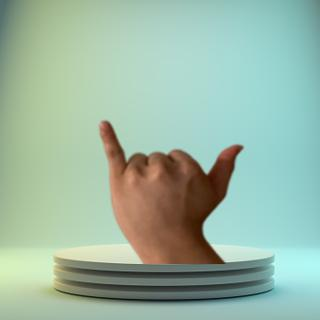HAVE: (89, 113, 247, 248)
